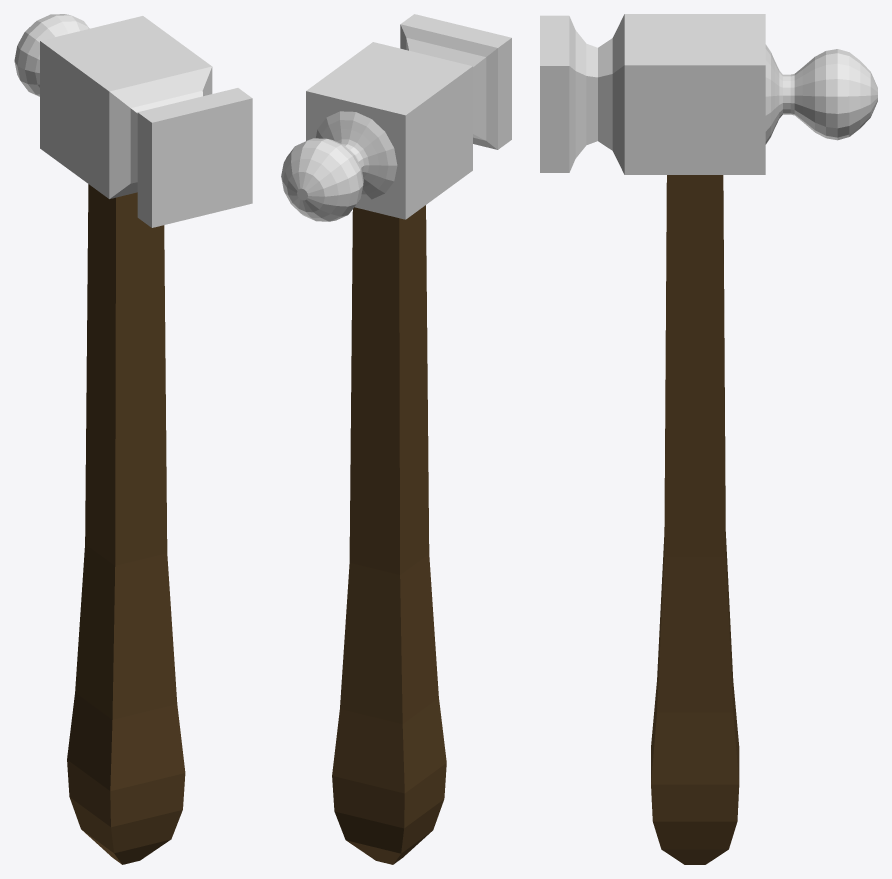
The model's file is hammer-bangpop.glb.
The picture shows the model from 3 angles, left to right: view 1: azimuth 30°, elevation 25°; view 2: azimuth 150°, elevation 25°; view 3: azimuth 270°, elevation 25°; orthographic projection. The views are drawn at different scales.
Parts seen in each view (by area): view 1: hammer_bangpop; view 2: hammer_bangpop; view 3: hammer_bangpop.
Boxes of the visible parts, x1=… form: hammer_bangpop: x1=14, y1=14, x2=252, y2=864; hammer_bangpop: x1=281, y1=14, x2=511, y2=864; hammer_bangpop: x1=540, y1=14, x2=877, y2=864.
Size of the model in its own units: 1.97 by 14.71 by 5.49.
